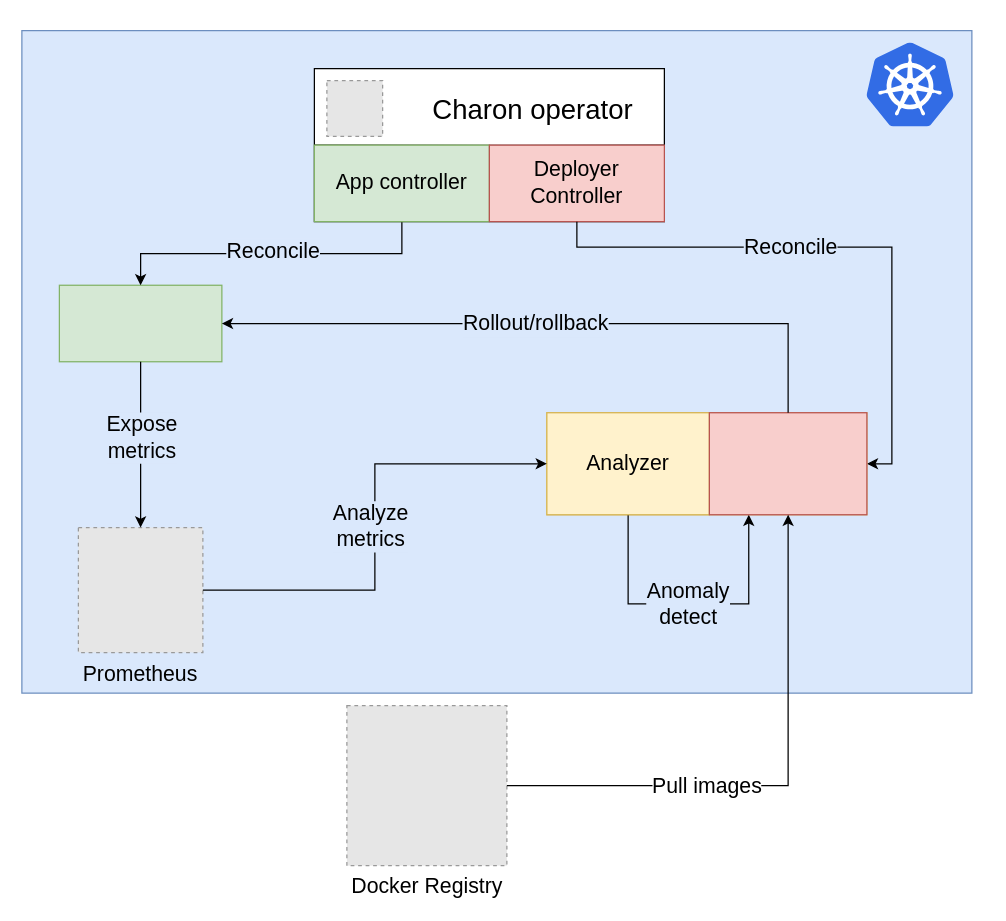
Image size: 1006x921. Some labels were removed from this diagram. Grey dashed boxes stand in for pictures. Each missing label, with the centre of its shape:
"App" goes at (x=140, y=323).
"Deployer" goes at (x=787, y=463).
